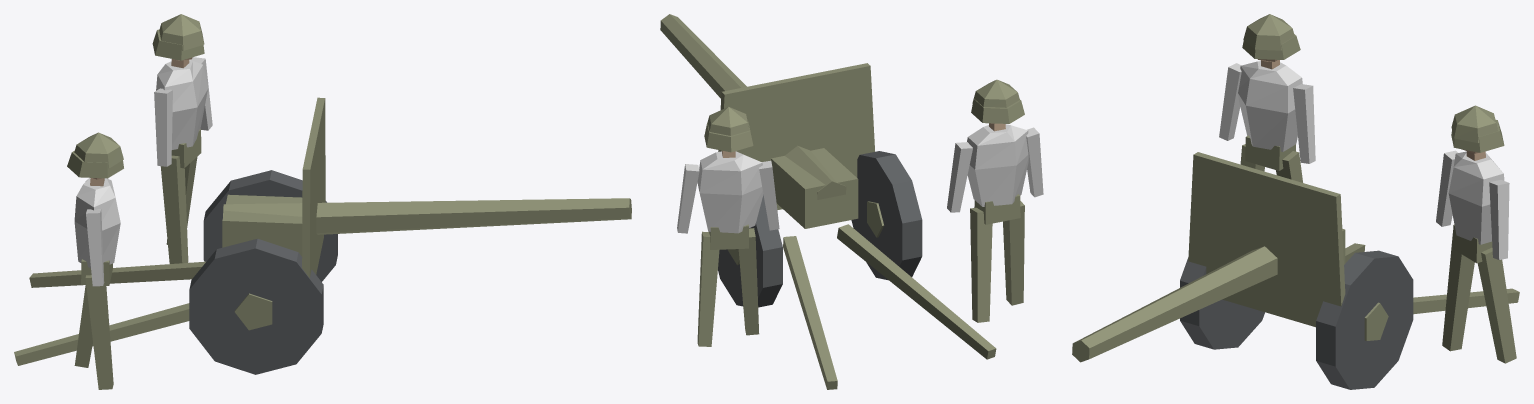
File: artillery.glb
The picture shows the model from 3 angles, left to right: view 1: azimuth 30°, elevation 25°; view 2: azimuth 150°, elevation 25°; view 3: azimuth 270°, elevation 25°; orthographic projection. The views are drawn at different scales.
Visible parts, largest first — view 1: LOD0; view 2: LOD0; view 3: LOD0.
Part boxes in pixels (<box>): LOD0: <box>14,14,631,389</box>; LOD0: <box>660,14,1043,389</box>; LOD0: <box>1072,14,1519,389</box>.
Size of what is drawn, in the model's own units: 1.45 by 0.7296 by 1.13.
